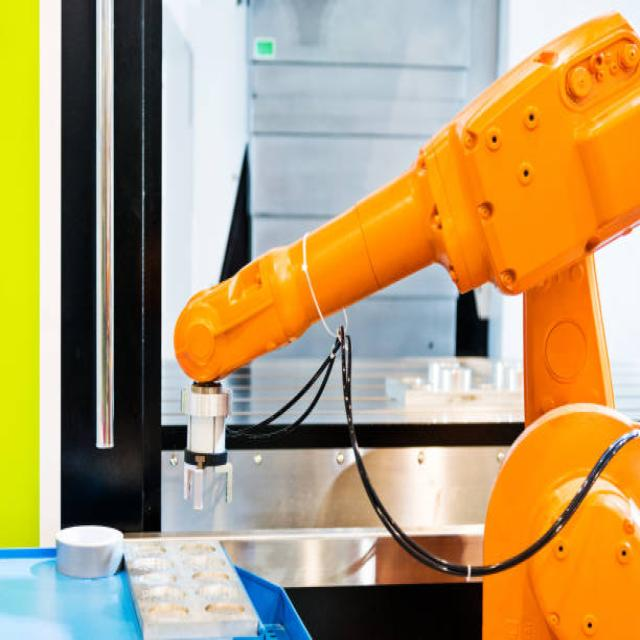Robotic-arm: (171, 6, 640, 640)
